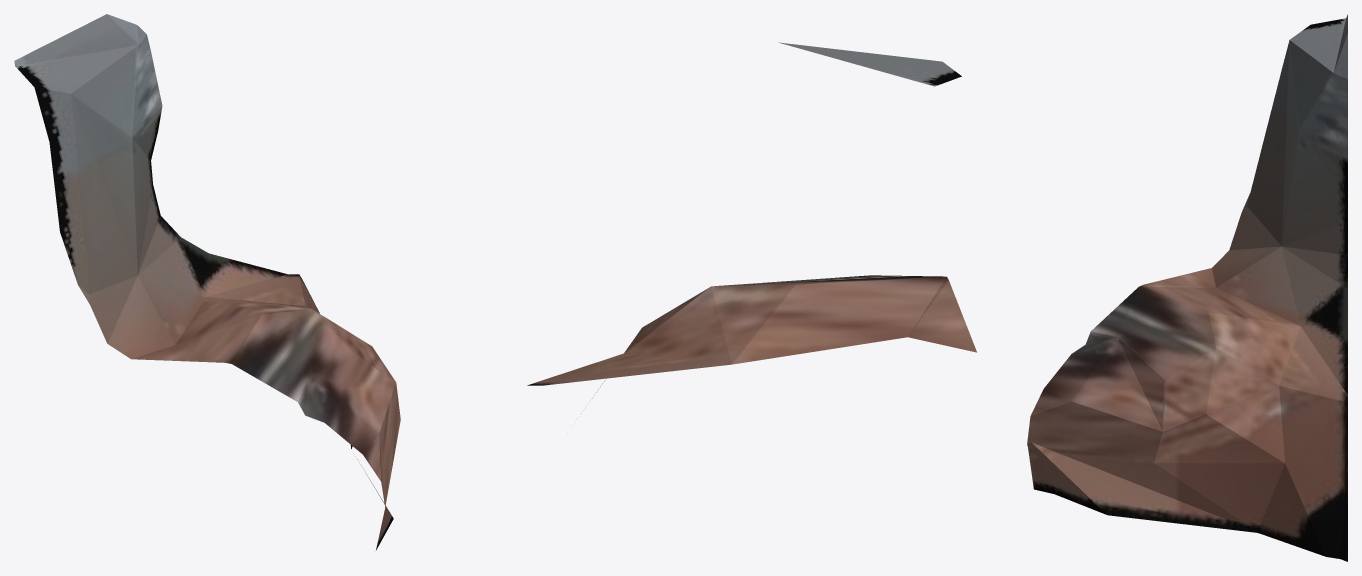
The picture shows the model from 3 angles, left to right: view 1: azimuth 30°, elevation 25°; view 2: azimuth 150°, elevation 25°; view 3: azimuth 270°, elevation 25°; orthographic projection. The views are drawn at different scales.
Bounding box in the file's own units: 1.86 × 2.25 × 1.59.
1 material, 1 textured.
